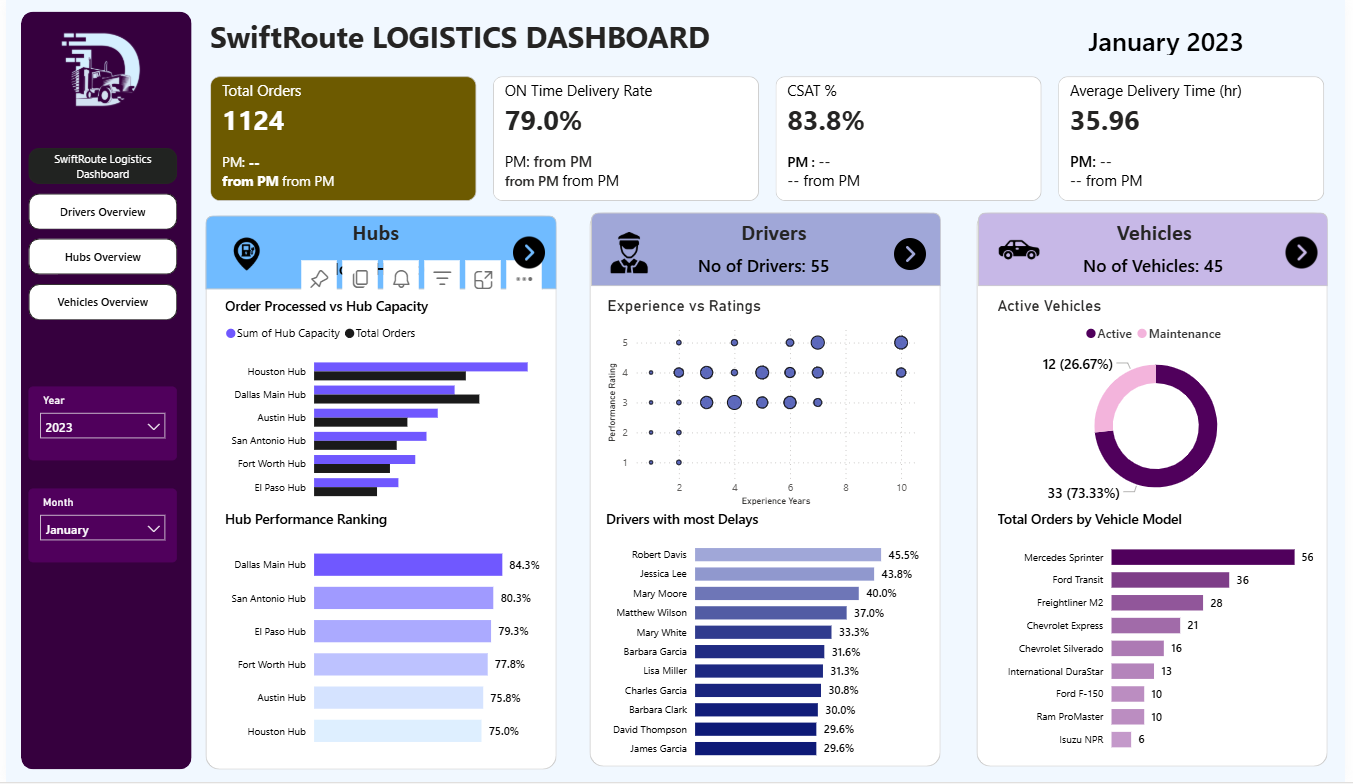

What the dashboard file says about the page in this screenshot:
{"tool":"powerbi","page":{"name":"SwiftRoute Logistics Dashboard","canvas":[1450,850],"ordinal":0},"visuals":[{"type":"shape","box":[15.9,14.1,184.9,820.7],"z":0},{"type":"textbox","box":[216.1,14.3,567.9,60.7],"z":1000},{"type":"cardVisual","fields":{"Data":["Orders.Total Orders","Orders.ON Time Delivery Rate","Orders.CSAT %","Orders.Average Delivery Time (hr)"]},"box":[216.7,74.2,1216.7,150],"z":2000},{"type":"slicer","fields":{"Values":["Date Table.Year"]},"box":[25.1,420.1,160.7,80],"z":3000},{"type":"slicer","fields":{"Values":["Date Table.Month"]},"box":[25.1,530.8,160.7,80],"z":4000},{"type":"shape","box":[216.7,234.8,380.3,600],"z":5000},{"type":"shape","box":[216.7,234.8,380.3,80],"z":6000},{"type":"textbox","box":[370.7,234.7,72,41.3],"z":7000},{"type":"cardVisual","fields":{"Data":["Hubs.Number of Hubs"]},"box":[308,276,192,30.7],"z":8000},{"type":"clusteredBarChart","title":"Order Processed vs Hub Capacity  ","fields":{"Category":["Hubs.HubName"],"Y":["Sum(Hubs.Hub Capacity)","Orders.Total Orders"]},"box":[231.5,322.5,349.4,231.5],"z":9000},{"type":"barChart","title":"Hub Performance Ranking","fields":{"Category":["Hubs.HubName"],"Y":["Orders.ON Time Delivery Rate"]},"box":[232.6,553.9,350.6,271.9],"z":10000},{"type":"shape","box":[631.2,232.7,380.3,600],"z":11000},{"type":"shape","box":[632.7,232.7,378.8,79.8],"z":12000},{"type":"shape","box":[1051.3,232.6,380.3,600],"z":13000},{"type":"shape","box":[1052.8,232.6,378.8,79.8],"z":14000},{"type":"cardVisual","fields":{"Data":["Drivers.Number of Drivers"]},"box":[724.4,273.2,192.7,31.7],"z":15000},{"type":"textbox","box":[788.6,234.3,84.3,41.4],"z":16000},{"type":"scatterChart","title":"Experience vs Ratings","fields":{"X":["Drivers.Experience Years"],"Y":["Drivers.Performance Rating"],"Size":["Sum(Drivers.Experience Years)1"]},"box":[647,322.6,348.5,231.2],"z":17000},{"type":"barChart","title":"Drivers with most Delays","fields":{"Category":["Drivers.DriverName"],"Y":["Orders.Delayed Delivery Rate"]},"box":[645.3,553.8,352,279.5],"z":18000},{"type":"cardVisual","fields":{"Data":["Vehicles.Number of Vehicles"]},"box":[1147.4,272.6,191.5,31.1],"z":19000},{"type":"textbox","box":[1185.3,234.6,115.6,41.4],"z":20000},{"type":"donutChart","title":"Active Vehicles","fields":{"Category":["Vehicles.Vehicle Status"],"Y":["CountNonNull(Vehicles.Vehicle ID)"]},"box":[1068,322.6,352,231.2],"z":21000},{"type":"barChart","fields":{"Category":["Vehicles.Vehicle Model"],"Y":["Orders.Total Orders"]},"box":[1068,553.8,352,272.6],"z":22000},{"type":"image","box":[29.3,29.3,148.4,103.5],"z":23000},{"type":"cardVisual","fields":{"Data":["Orders.Year Month Title"]},"box":[1147.4,22.4,219.1,44.9],"z":24000},{"type":"image","box":[962.2,259.2,34.7,34.7],"z":25000},{"type":"image","box":[548.7,258.8,34.5,34.5],"z":26000},{"type":"pageNavigator","box":[25,163,161.1,188],"z":27000},{"type":"image","box":[231.5,254.6,56.5,44.4],"z":28000},{"type":"image","box":[647.2,252.8,56.5,44.4],"z":29000},{"type":"image","box":[1068.1,254.2,56.9,44.4],"z":30000},{"type":"image","box":[1385.4,258.8,34.5,34.5],"z":31000}]}

Visuals, with their boxes on the page's 1450x850 design canvas (x1, y1, x2, y2). These are canvas units, not pixel positions in the 1353x784 screenshot, which may show the page scaled, cropped or inside an application window:
shape: detection(16, 14, 201, 835)
textbox: detection(216, 14, 784, 75)
cardVisual - Orders.Total Orders x Orders.ON Time Delivery Rate: detection(217, 74, 1433, 224)
slicer - Date Table.Year: detection(25, 420, 186, 500)
slicer - Date Table.Month: detection(25, 531, 186, 611)
shape: detection(217, 235, 597, 835)
shape: detection(217, 235, 597, 315)
textbox: detection(371, 235, 443, 276)
cardVisual - Hubs.Number of Hubs: detection(308, 276, 500, 307)
"Order Processed vs Hub Capacity  " clusteredBarChart: detection(232, 322, 581, 554)
"Hub Performance Ranking" barChart: detection(233, 554, 583, 826)
shape: detection(631, 233, 1012, 833)
shape: detection(633, 233, 1012, 312)
shape: detection(1051, 233, 1432, 833)
shape: detection(1053, 233, 1432, 312)
cardVisual - Drivers.Number of Drivers: detection(724, 273, 917, 305)
textbox: detection(789, 234, 873, 276)
"Experience vs Ratings" scatterChart: detection(647, 323, 996, 554)
"Drivers with most Delays" barChart: detection(645, 554, 997, 833)
cardVisual - Vehicles.Number of Vehicles: detection(1147, 273, 1339, 304)
textbox: detection(1185, 235, 1301, 276)
"Active Vehicles" donutChart: detection(1068, 323, 1420, 554)
barChart - Vehicles.Vehicle Model x Orders.Total Orders: detection(1068, 554, 1420, 826)
image: detection(29, 29, 178, 133)
cardVisual - Orders.Year Month Title: detection(1147, 22, 1366, 67)
image: detection(962, 259, 997, 294)
image: detection(549, 259, 583, 293)
pageNavigator: detection(25, 163, 186, 351)
image: detection(232, 255, 288, 299)
image: detection(647, 253, 704, 297)
image: detection(1068, 254, 1125, 299)
image: detection(1385, 259, 1420, 293)
